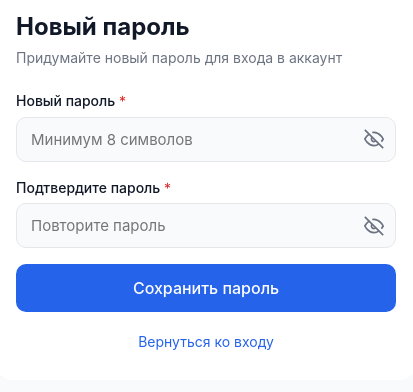
ResetPassword.vue › валидирует минимальную длину пароля
Type "short" into the password field with placeholder "Минимум 8 символов" at (206, 139), box [16,117,396,162]
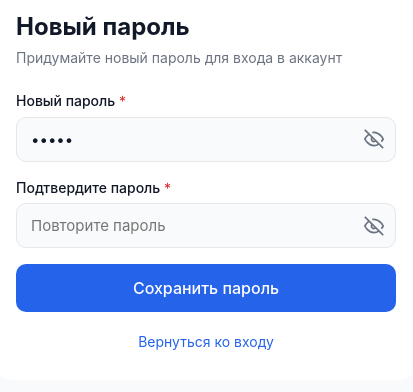
Type "short" into the password field with placeholder "Повторите пароль" at (206, 226), box [16,203,396,248]
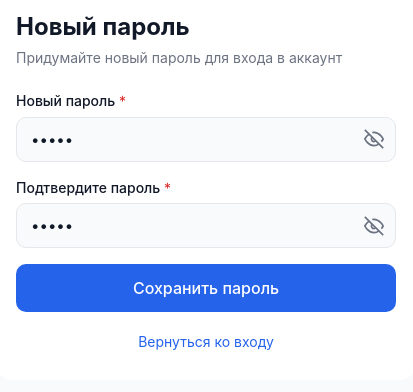
Submit the form, box [16,91,396,312]
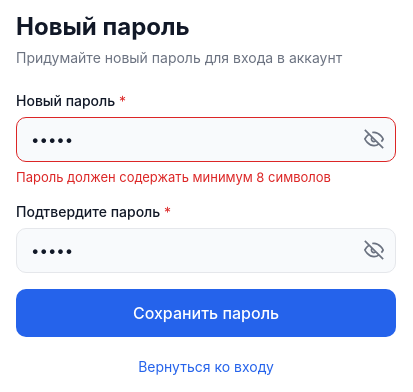
expect the text "минимум 8 символов" is shown: met, box [16,169,331,185]
